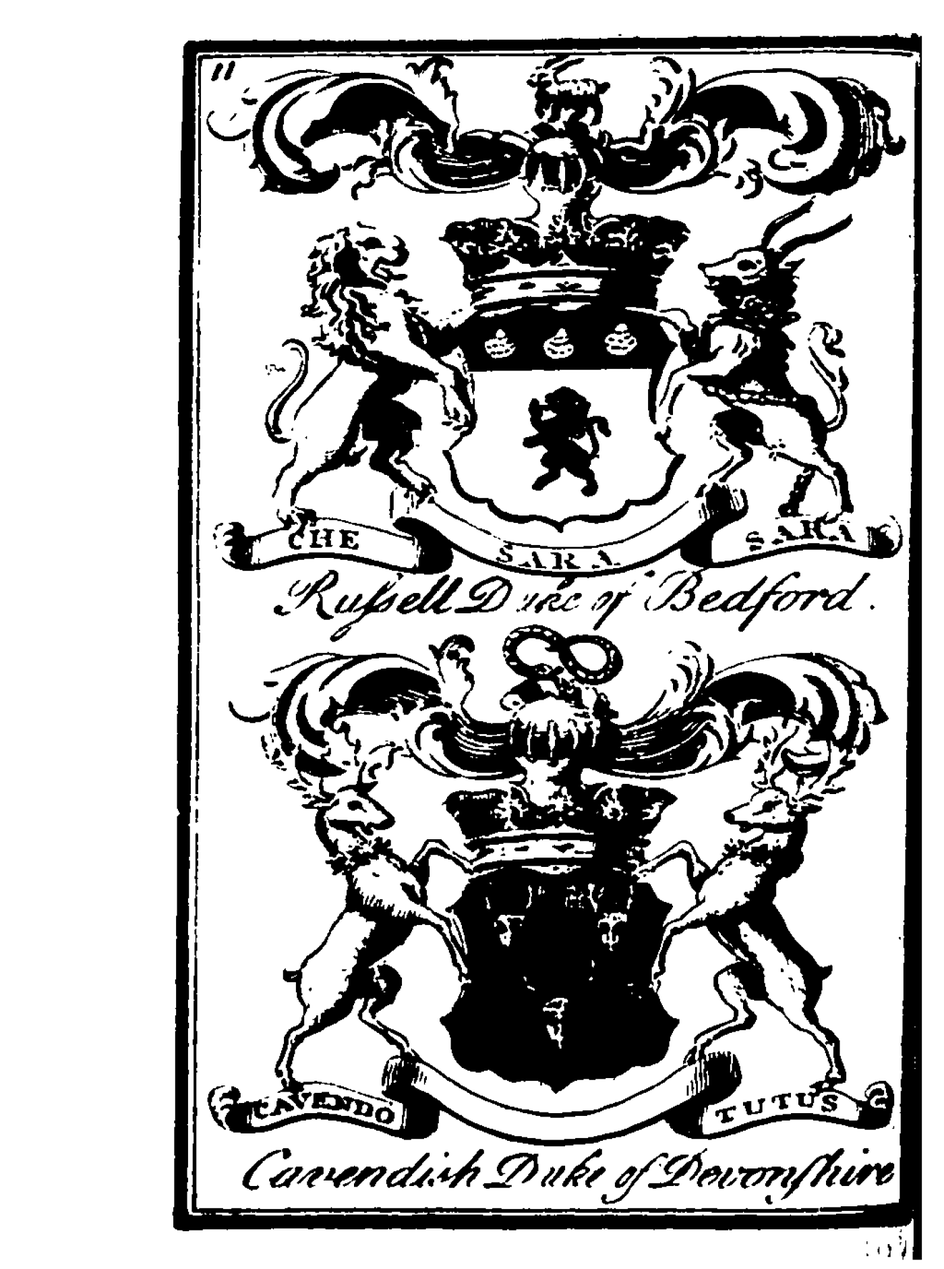coat_of_arms: (198, 628, 900, 1204), (211, 70, 914, 633)
